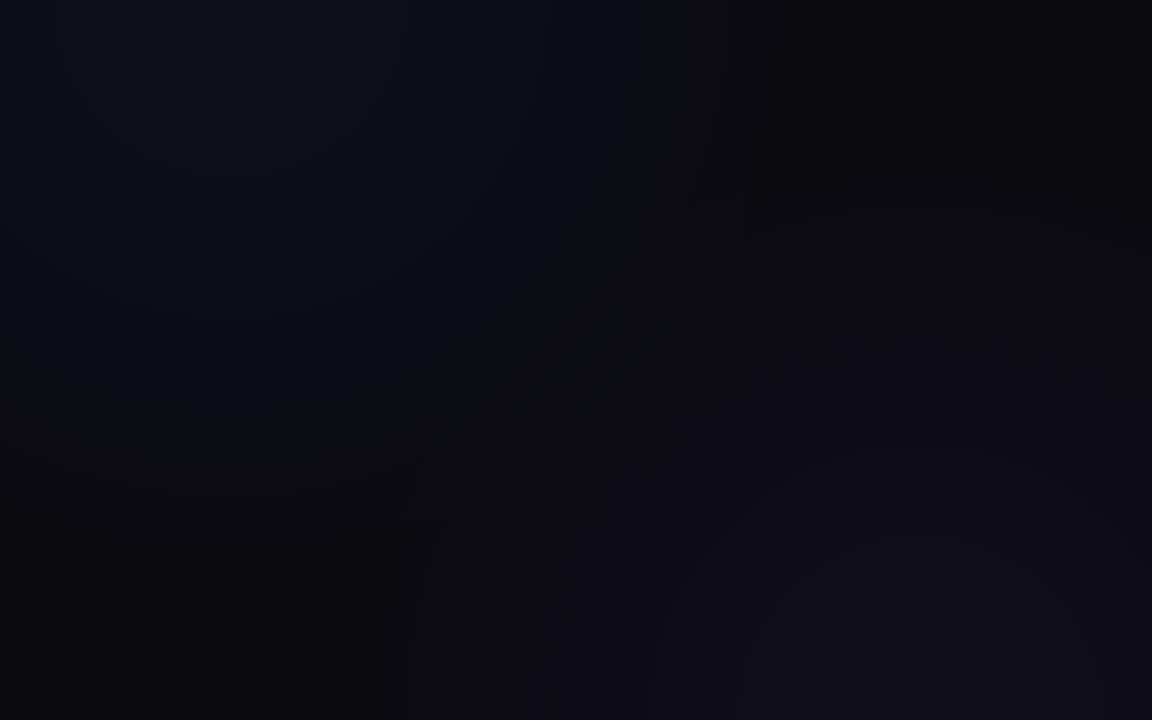
Scenario: CommandPalette — Density group (CMDK-02) › after selecting a density, re-opening shows ✓ on the new active item
Type keys "{Meta>}k{/Meta}"
(page scrolled)
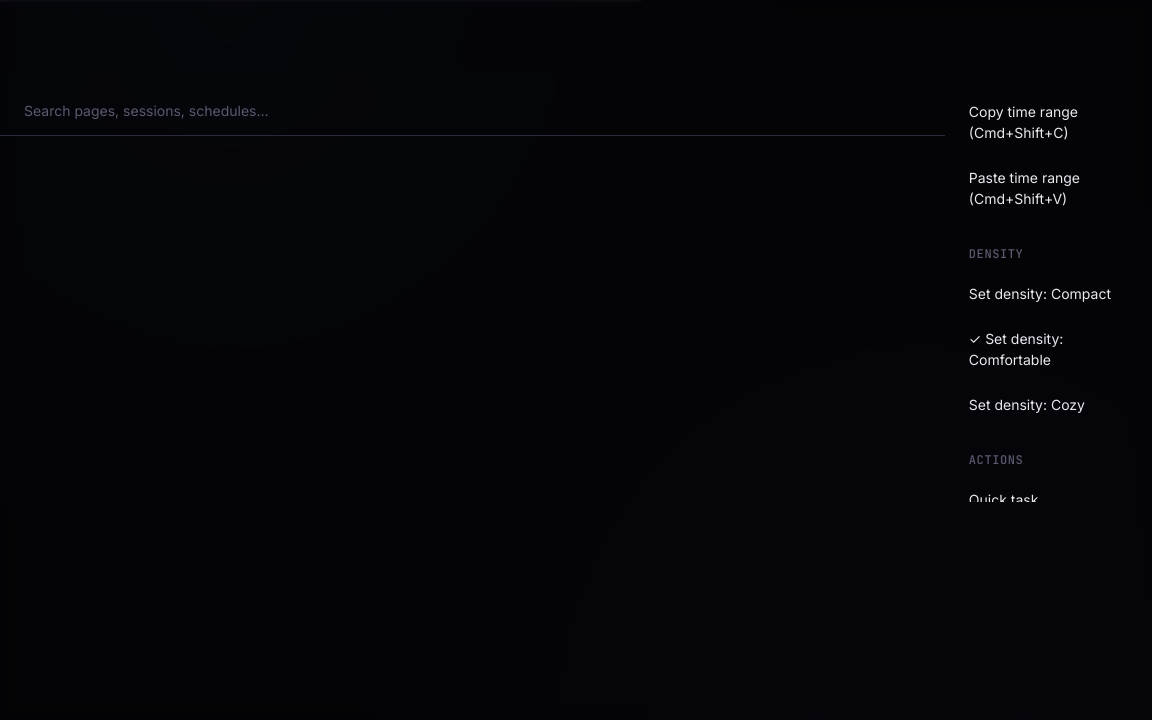
Click the option with test id "cmdk-density-compact" at (1040, 294), box top-left (969, 285), bottom-right (1111, 302)
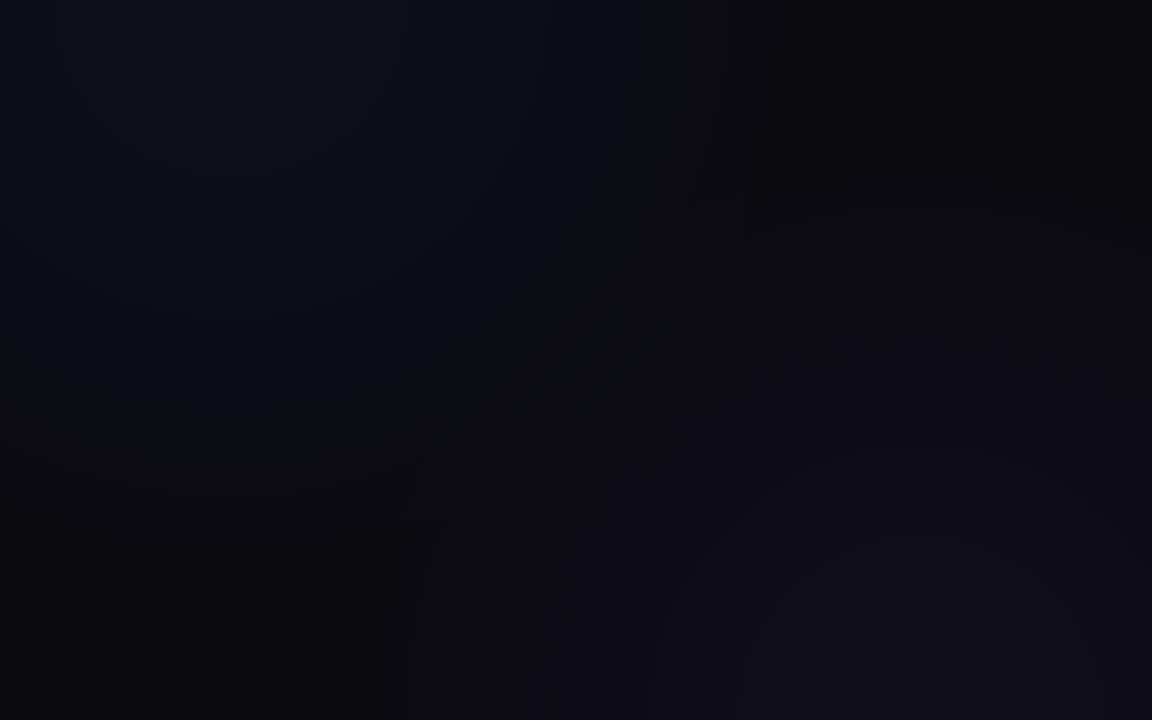
Type keys "{Meta>}k{/Meta}"
(page scrolled)
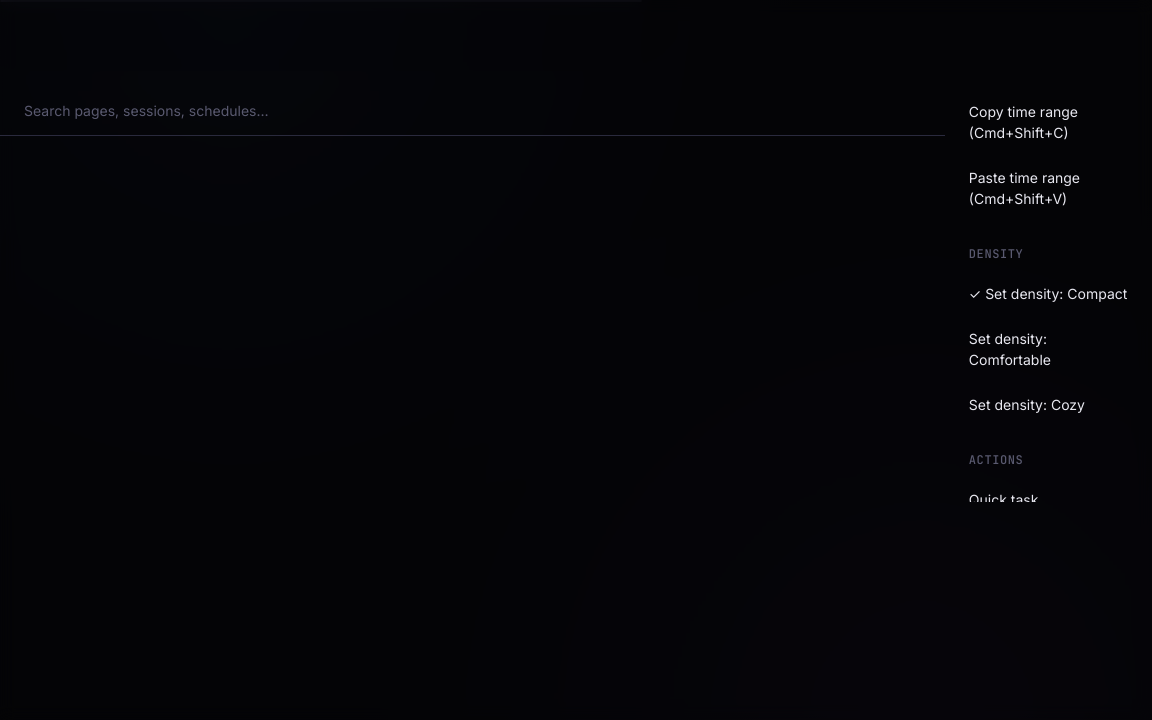
Check: the element with test id "cmdk-density-comfortable" does not show "✓"
Check: the option with test id "cmdk-density-compact" shows "✓", box top-left (969, 285), bottom-right (1127, 302)
